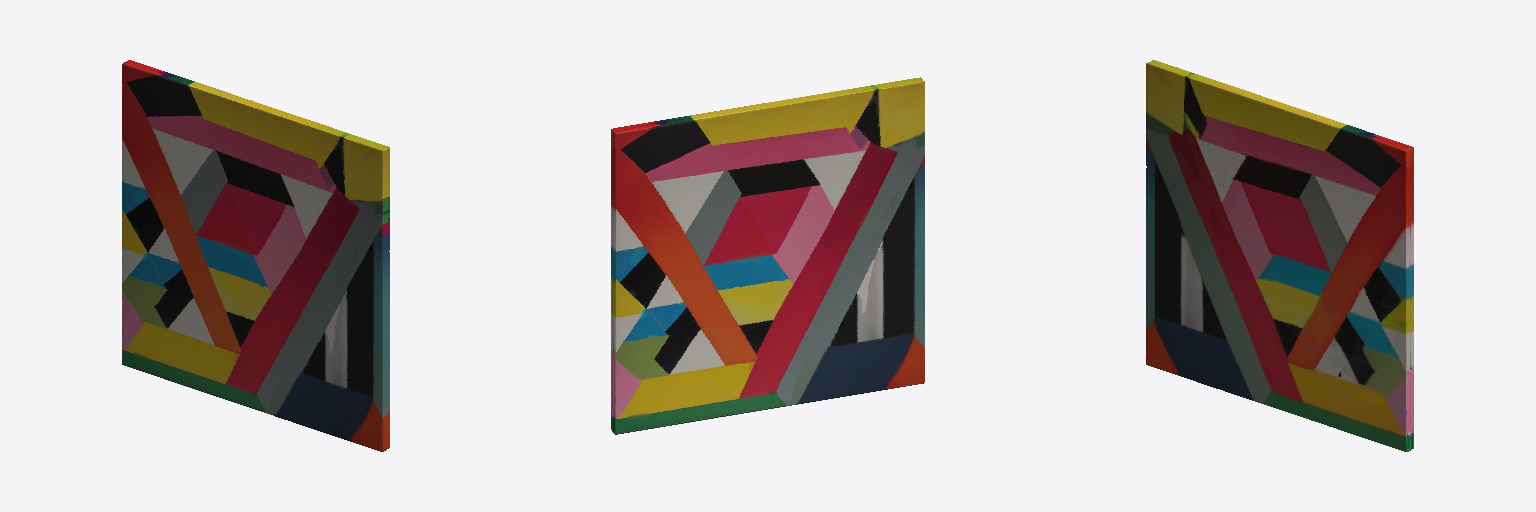
3 views of the same model, side by side, from view 1: azimuth 90°, elevation 25°; view 2: azimuth 150°, elevation 25°; view 3: azimuth 270°, elevation 25° (orthographic).
Parts seen in each view (by area): view 1: cuadronuevo9; view 2: cuadronuevo9; view 3: cuadronuevo9.
Boxes of the visible parts, x1=… form: cuadronuevo9: x1=122, y1=60, x2=389, y2=451; cuadronuevo9: x1=611, y1=77, x2=924, y2=434; cuadronuevo9: x1=1146, y1=60, x2=1413, y2=451.
Bounding box in the file's own units: 6.57 × 10.13 × 8.14.
Materials: 1 (1 with a texture image).